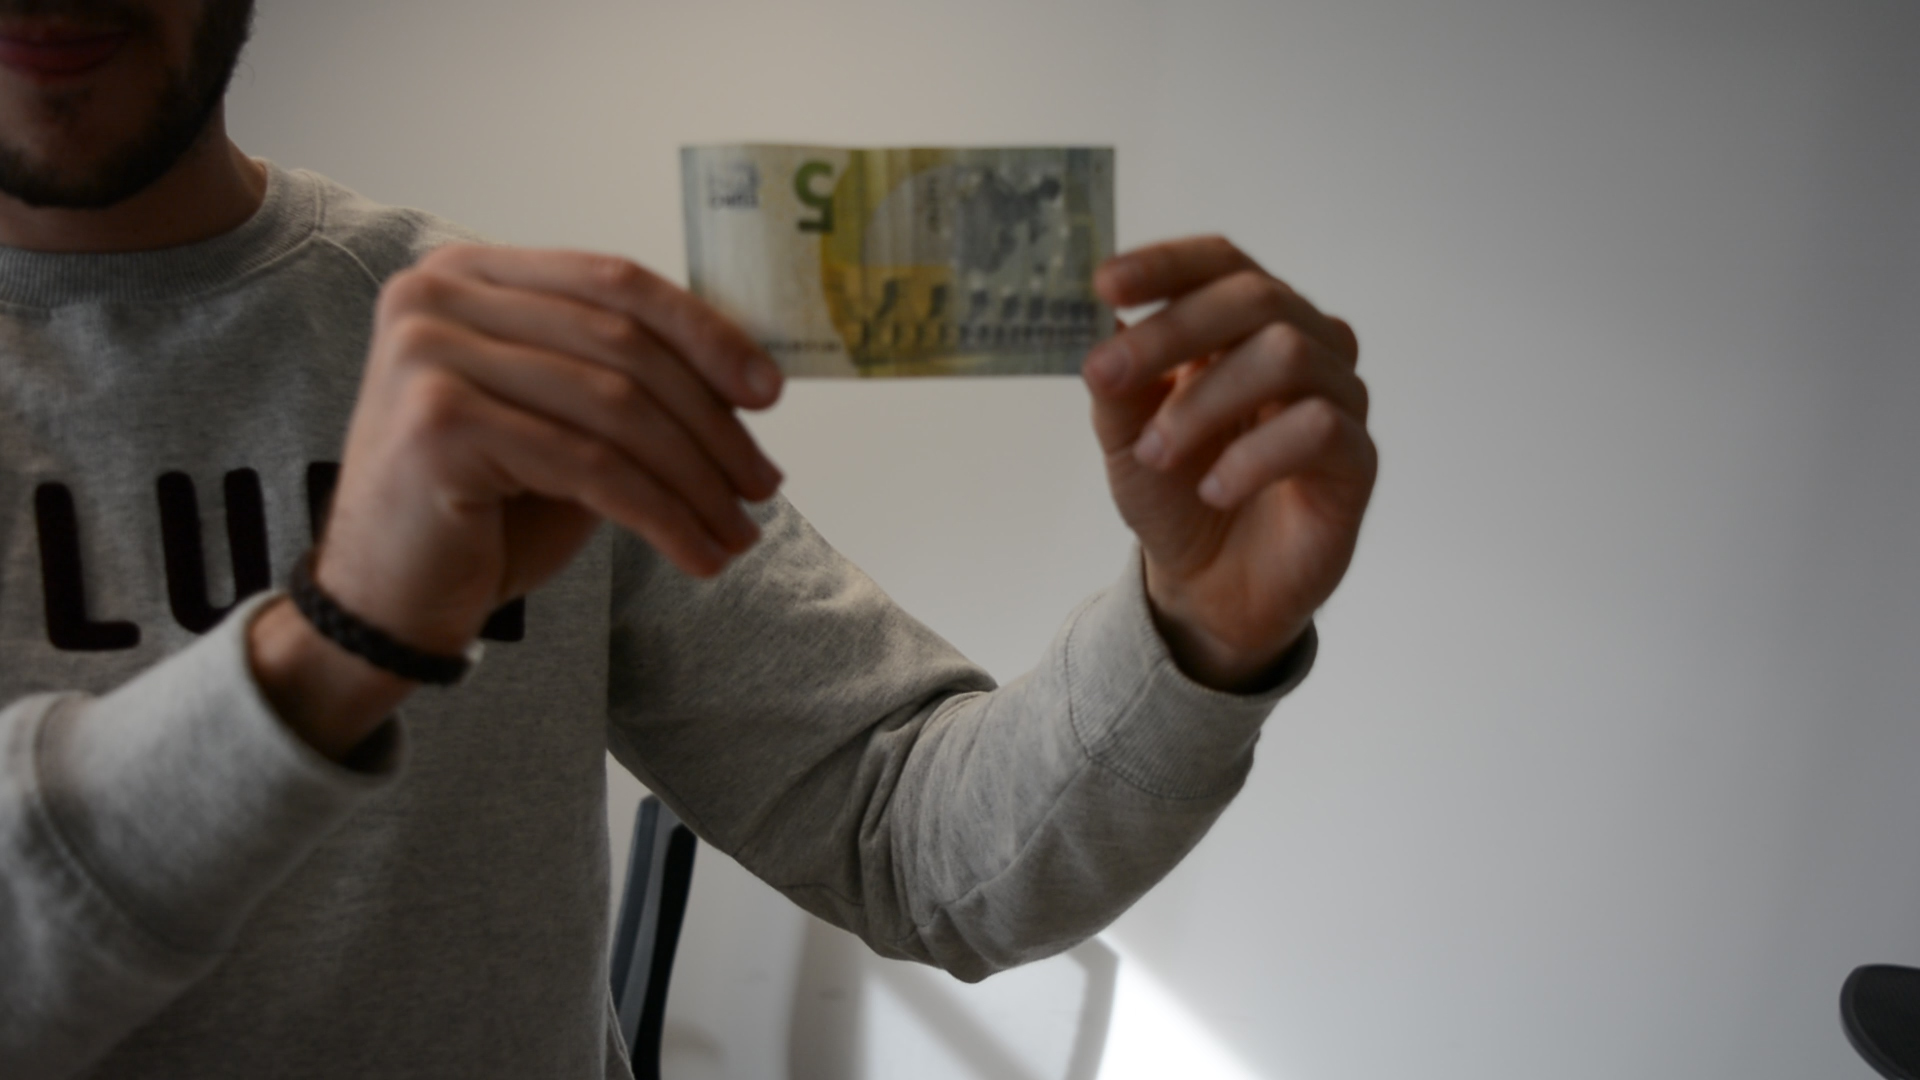billete: (674, 142, 1124, 382)
